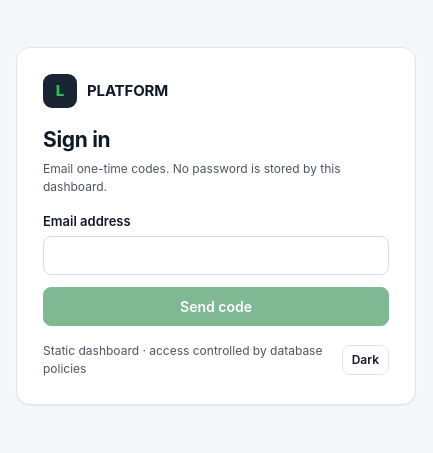
login › shows the same generic message for any email address
Expected: the heading "Sign in" is shown, [43, 127, 110, 152]
Type "nobody@example.com" into the field labelled "Email address" at (216, 256), box [43, 236, 389, 275]
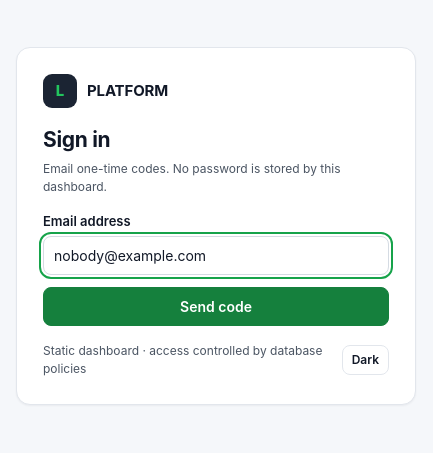
Click the button "Send code" at (216, 306), box [43, 287, 389, 326]
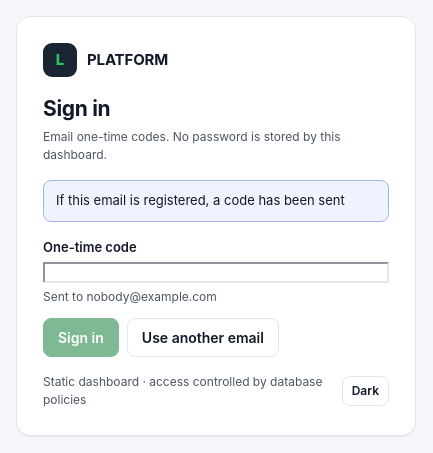
Now the text "If this email is registered, a code has been sent" is shown, box [43, 180, 389, 222]
